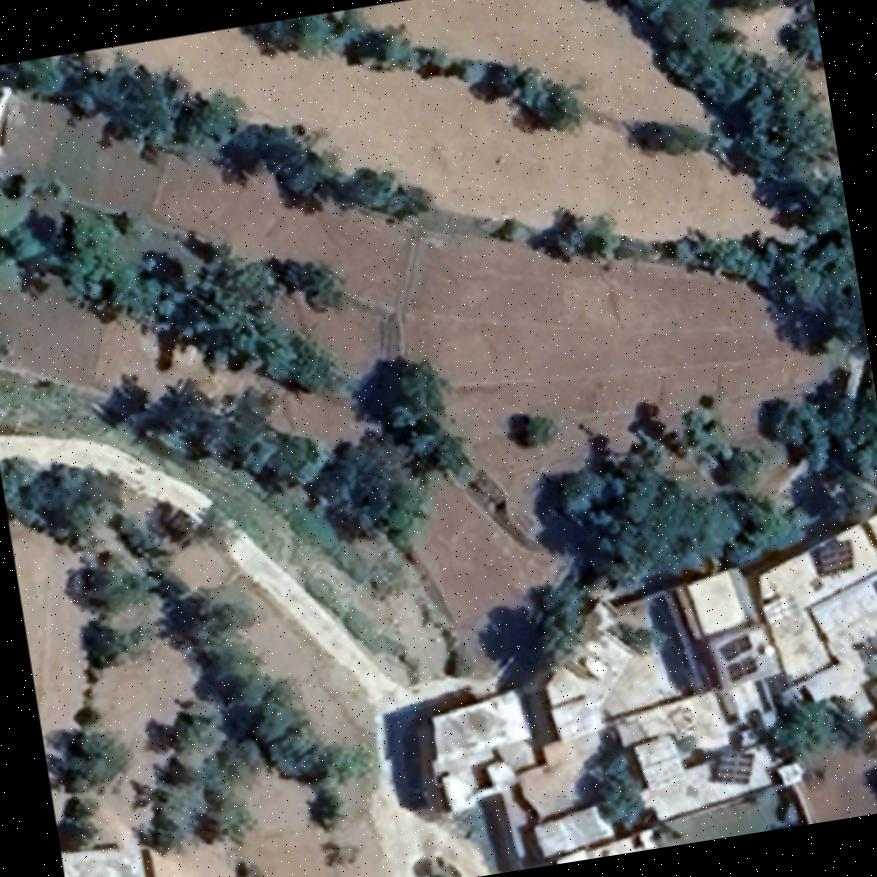Solarpanel: (713, 745, 757, 788), (816, 539, 854, 574), (716, 632, 754, 660), (724, 654, 758, 681)
